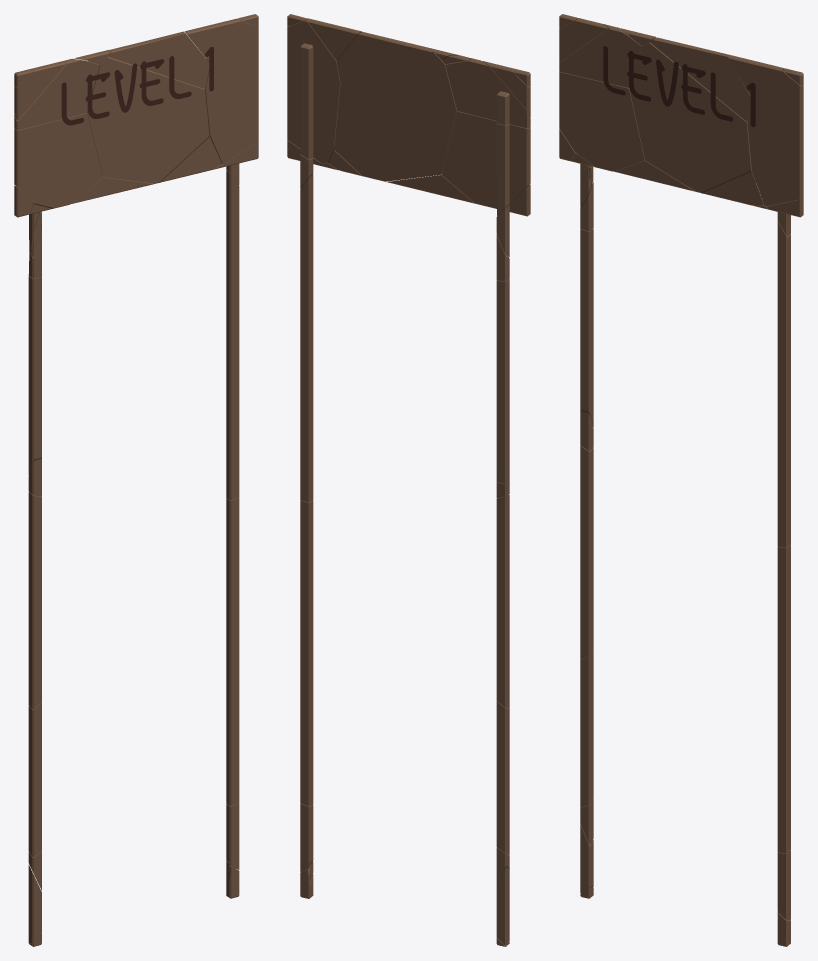
The model's file is bsign-level1.fbx.
3 renders of one model, left to right at view 1: azimuth 30°, elevation 25°; view 2: azimuth 150°, elevation 25°; view 3: azimuth 330°, elevation 25°, orthographic.
Visible parts, largest first — view 1: sign_level1_01.001_cell.036, sign_level1_01.001_cell.017, sign_level1_01.001_cell.011, sign_level1_01.001_cell.033, sign_level1_01.001_cell.010, sign_level1_01.001_cell.018, sign_level1_01.001_cell.013, sign_level1_01.001_cell.003, sign_level1_01.001_cell.002, sign_level1_01.001_cell.028, sign_level1_01.001_cell.006, sign_level1_01.001_cell.019 (+6 smaller); view 2: sign_level1_01.001_cell.036, sign_level1_01.001_cell.017, sign_level1_01.001_cell.011, sign_level1_01.001_cell.033, sign_level1_01.001_cell.010, sign_level1_01.001_cell.018, sign_level1_01.001_cell.003, sign_level1_01.001_cell.002, sign_level1_01.001_cell.013, sign_level1_01.001_cell.028, sign_level1_01.001_cell.022, sign_level1_01.001_cell.014 (+5 smaller); view 3: sign_level1_01.001_cell.036, sign_level1_01.001_cell.011, sign_level1_01.001_cell.017, sign_level1_01.001_cell.033, sign_level1_01.001_cell.010, sign_level1_01.001_cell.018, sign_level1_01.001_cell.013, sign_level1_01.001_cell.003, sign_level1_01.001_cell.002, sign_level1_01.001_cell.028, sign_level1_01.001_cell.006, sign_level1_01.001_cell.019 (+5 smaller).
Boxes of the visible parts, x1=… form: sign_level1_01.001_cell.036: x1=85, y1=56, x2=209, y2=183; sign_level1_01.001_cell.017: x1=14, y1=113, x2=102, y2=212; sign_level1_01.001_cell.011: x1=205, y1=18, x2=258, y2=163; sign_level1_01.001_cell.033: x1=226, y1=170, x2=239, y2=499; sign_level1_01.001_cell.010: x1=226, y1=497, x2=239, y2=805; sign_level1_01.001_cell.018: x1=14, y1=58, x2=99, y2=130; sign_level1_01.001_cell.013: x1=108, y1=31, x2=209, y2=88; sign_level1_01.001_cell.003: x1=28, y1=492, x2=41, y2=708; sign_level1_01.001_cell.002: x1=28, y1=276, x2=41, y2=475; sign_level1_01.001_cell.028: x1=28, y1=701, x2=41, y2=856; sign_level1_01.001_cell.006: x1=14, y1=62, x2=65, y2=120; sign_level1_01.001_cell.019: x1=161, y1=137, x2=221, y2=181; sign_level1_01.001_cell.036: x1=334, y1=52, x2=457, y2=181; sign_level1_01.001_cell.017: x1=441, y1=111, x2=530, y2=215; sign_level1_01.001_cell.011: x1=287, y1=19, x2=340, y2=163; sign_level1_01.001_cell.033: x1=300, y1=175, x2=313, y2=502; sign_level1_01.001_cell.010: x1=300, y1=500, x2=313, y2=805; sign_level1_01.001_cell.018: x1=445, y1=58, x2=530, y2=128; sign_level1_01.001_cell.003: x1=496, y1=495, x2=509, y2=707; sign_level1_01.001_cell.002: x1=496, y1=279, x2=509, y2=483; sign_level1_01.001_cell.013: x1=336, y1=31, x2=435, y2=82; sign_level1_01.001_cell.028: x1=496, y1=700, x2=509, y2=854; sign_level1_01.001_cell.022: x1=307, y1=18, x2=361, y2=60; sign_level1_01.001_cell.014: x1=387, y1=175, x2=475, y2=203; sign_level1_01.001_cell.036: x1=627, y1=41, x2=756, y2=193; sign_level1_01.001_cell.011: x1=746, y1=68, x2=803, y2=205; sign_level1_01.001_cell.017: x1=559, y1=71, x2=644, y2=171; sign_level1_01.001_cell.033: x1=777, y1=219, x2=790, y2=547; sign_level1_01.001_cell.010: x1=777, y1=546, x2=790, y2=853; sign_level1_01.001_cell.018: x1=559, y1=24, x2=641, y2=95; sign_level1_01.001_cell.013: x1=650, y1=37, x2=750, y2=121; sign_level1_01.001_cell.003: x1=580, y1=445, x2=593, y2=658; sign_level1_01.001_cell.002: x1=580, y1=228, x2=593, y2=426; sign_level1_01.001_cell.028: x1=580, y1=651, x2=593, y2=806; sign_level1_01.001_cell.006: x1=559, y1=18, x2=607, y2=61; sign_level1_01.001_cell.019: x1=703, y1=171, x2=763, y2=205.
Size of the model in its own units: 92.94 by 322 by 4.88.
